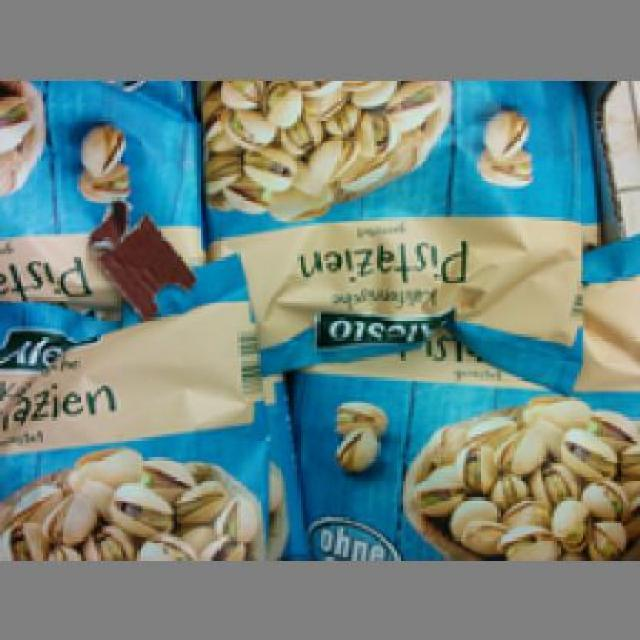Nuts: (190, 77, 586, 394), (277, 240, 637, 557), (0, 260, 300, 554)
